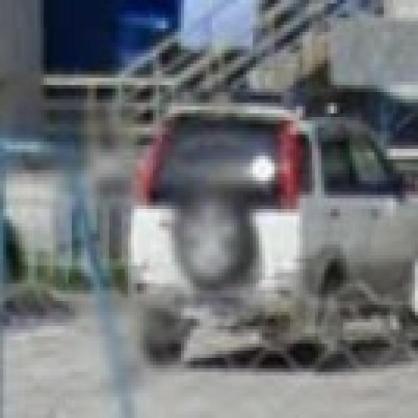car: (127, 105, 415, 370)
